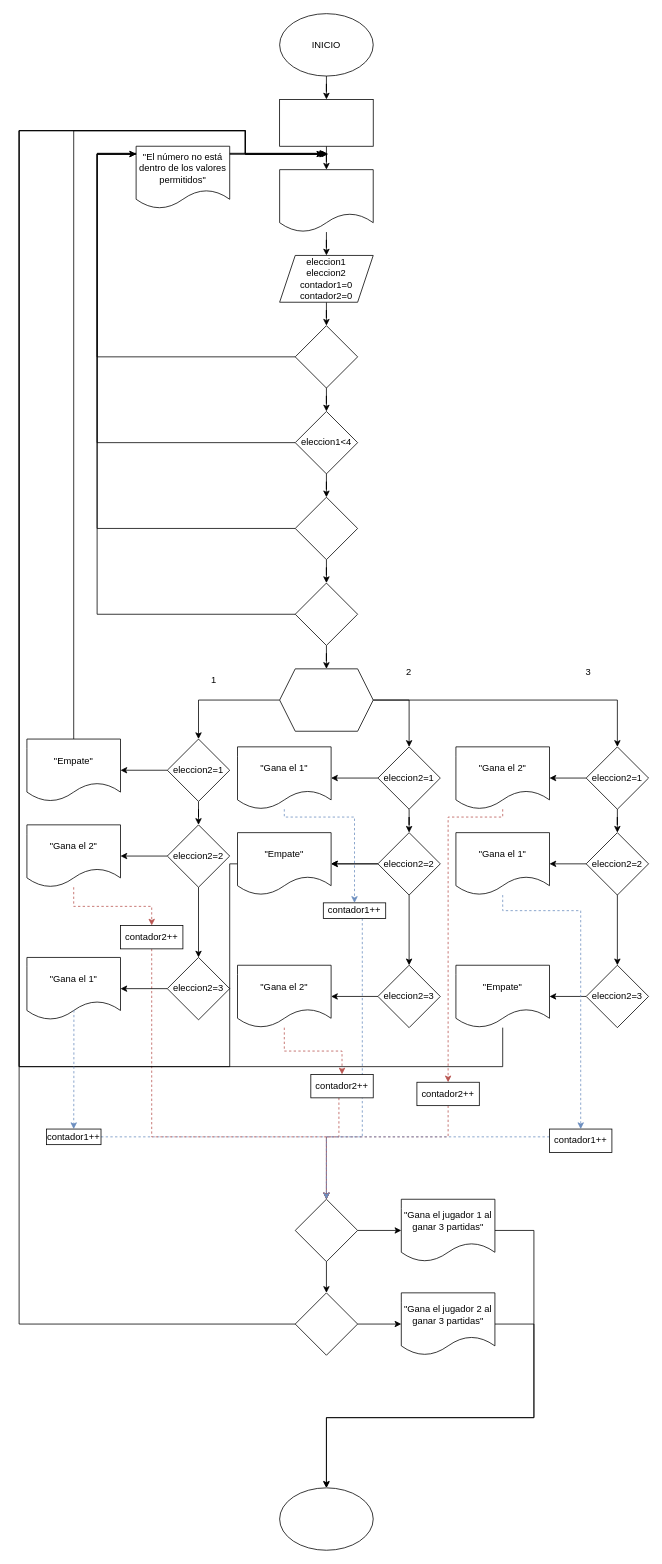
Some shapes in this 662 by 1564 pixel diagram are drawn without their labels. Here are the shapes that lost their labels. From the top down, the box of each, then its label:
(279, 99, 373, 146): int eleccion1 int eleccion2 int contador1 int contador2
(279, 169, 373, 232): "Elije 1 para piedra, 2 para papel o 3 para tijera"
(294, 325, 358, 388): eleccion1>0
(294, 496, 358, 560): eleccion2>0
(294, 582, 358, 645): eleccion2<4
(279, 668, 373, 731): eleccion1
(294, 1198, 358, 1262): contador1==3
(294, 1292, 358, 1355): contador2==3
(279, 1487, 373, 1550): FIN
